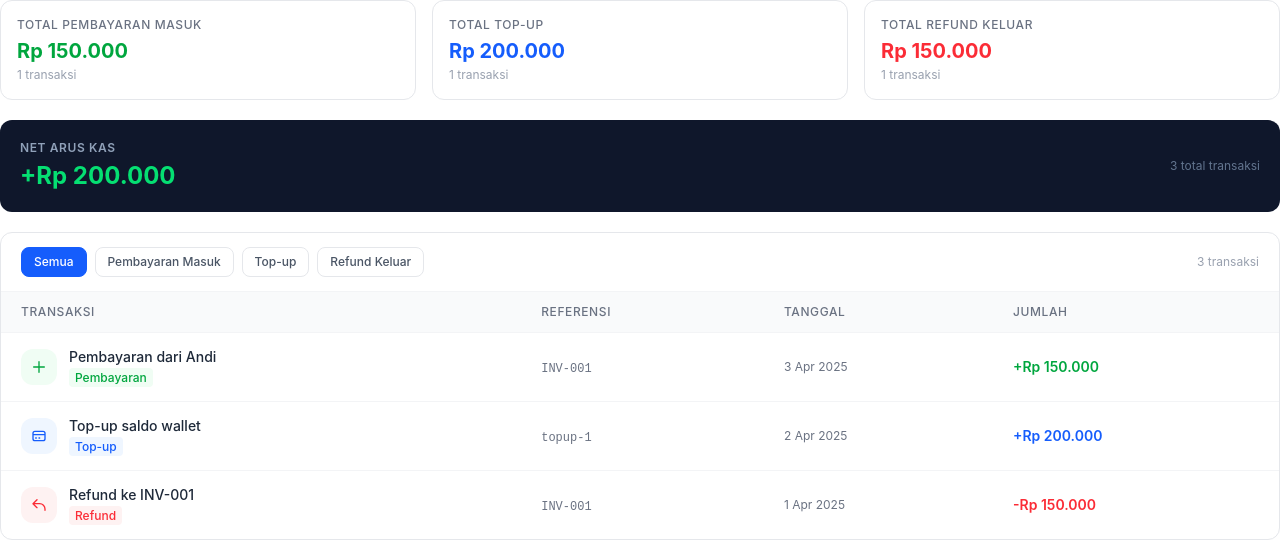
Scenario: TransactionHistoryPage › filters to show only TOPUP_IN when clicked
Step 1. Click the button "Top-up" → (276, 262), box [242,247,309,277]
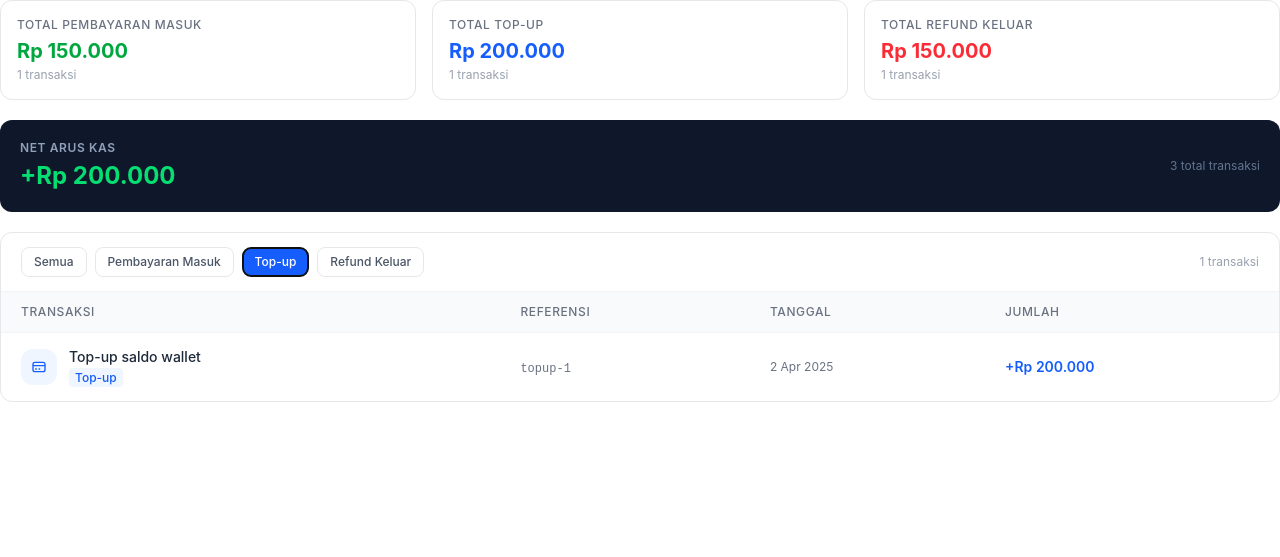
Expected: the text "Top-up saldo wallet" is shown, [69,347,201,367]
Now the text "Pembayaran dari Andi" is gone
